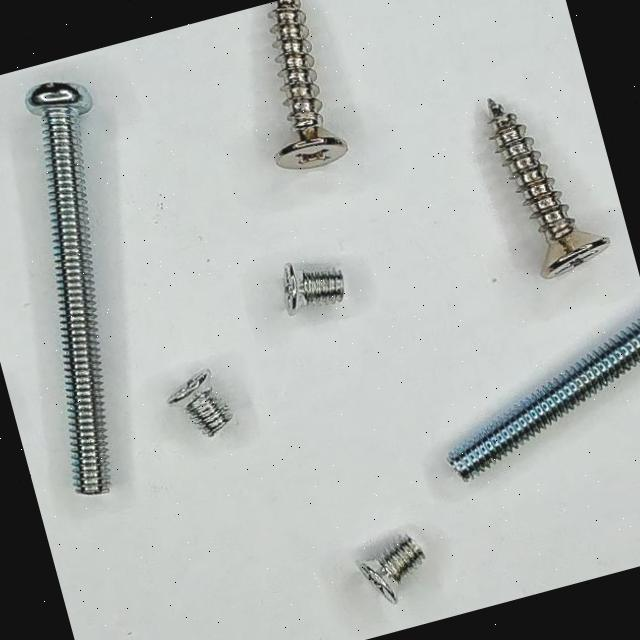Screw: (23, 81, 109, 494), (447, 318, 640, 481), (488, 98, 610, 278), (268, 0, 347, 168), (355, 535, 425, 605), (166, 369, 232, 437), (284, 264, 344, 315)
